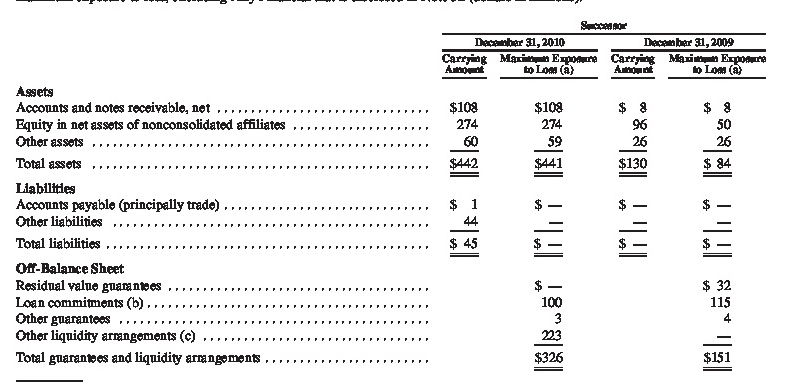table: (0, 0, 788, 382)
